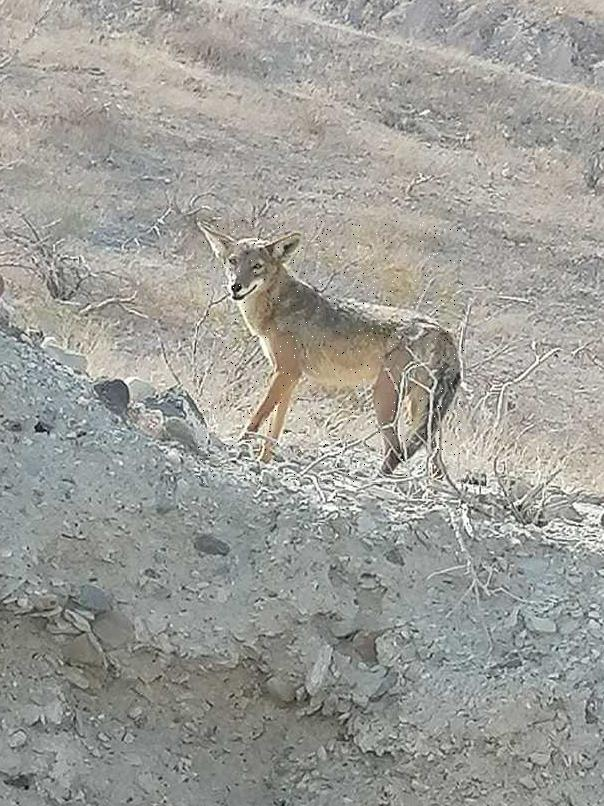Coyote: (198, 218, 465, 484)
